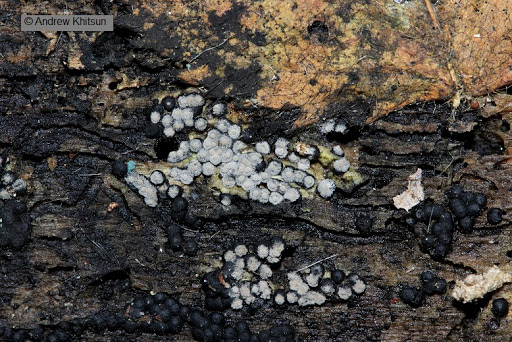pudricion radicular: (75, 64, 495, 313)
